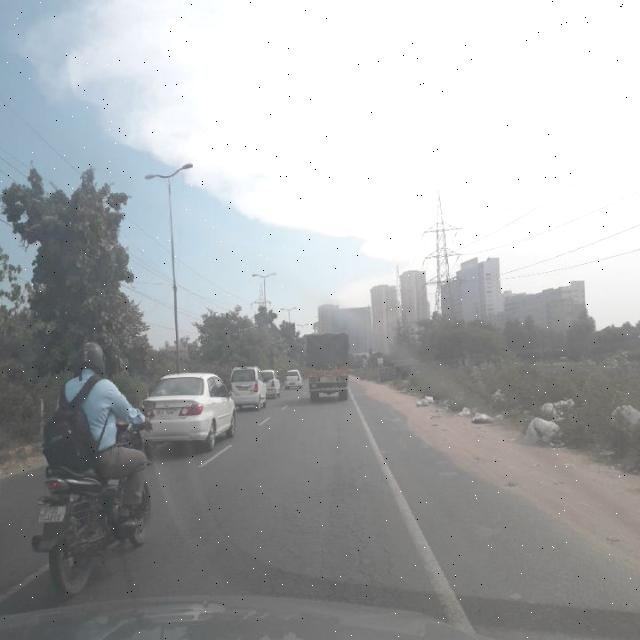D20: (170, 442, 418, 604)
